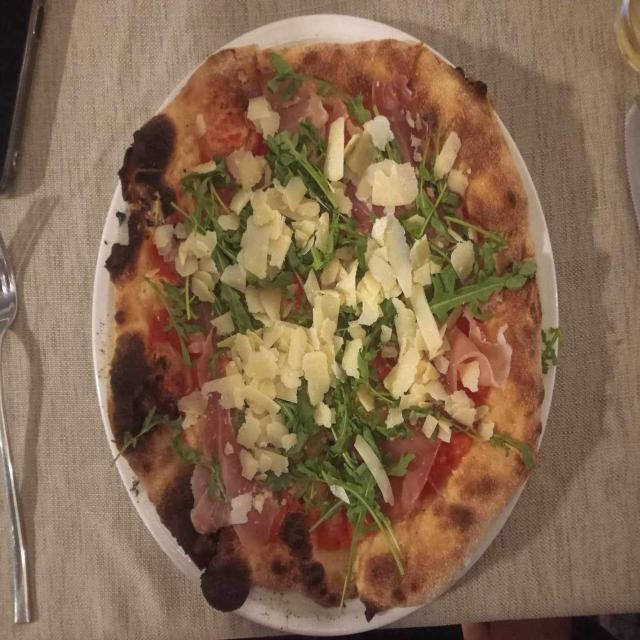Cheese: (234, 336, 332, 398), (334, 128, 413, 202), (395, 303, 440, 404), (242, 164, 284, 268), (308, 271, 375, 326), (163, 226, 214, 291), (247, 400, 290, 474), (374, 227, 416, 297), (287, 180, 331, 246), (438, 134, 471, 188), (250, 288, 284, 330), (185, 379, 234, 404), (250, 97, 280, 135), (448, 384, 472, 420)
Ham: (197, 423, 248, 528), (446, 318, 512, 387), (394, 430, 438, 509), (283, 100, 347, 121)
Pizza: (111, 41, 544, 614)
Rucola: (296, 422, 390, 570), (270, 49, 356, 96), (432, 278, 535, 308), (163, 296, 203, 362), (271, 132, 324, 178), (333, 212, 367, 264), (185, 174, 222, 218), (286, 248, 308, 282), (341, 382, 359, 421)
